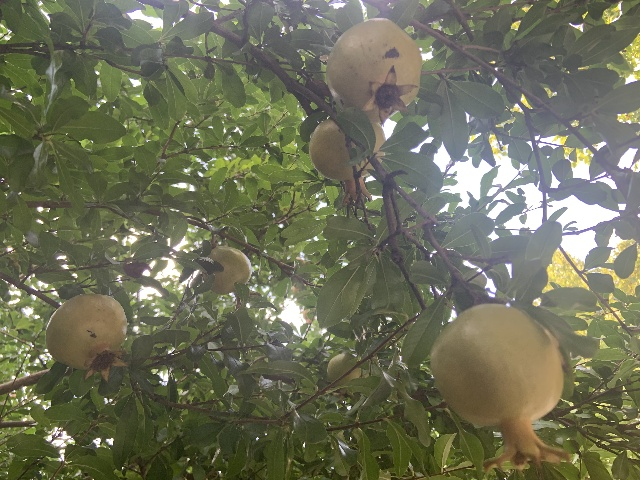mid-growth: (429, 303, 570, 472), (325, 17, 422, 126), (45, 293, 129, 382), (308, 117, 385, 207), (202, 247, 261, 312), (322, 352, 363, 398)
